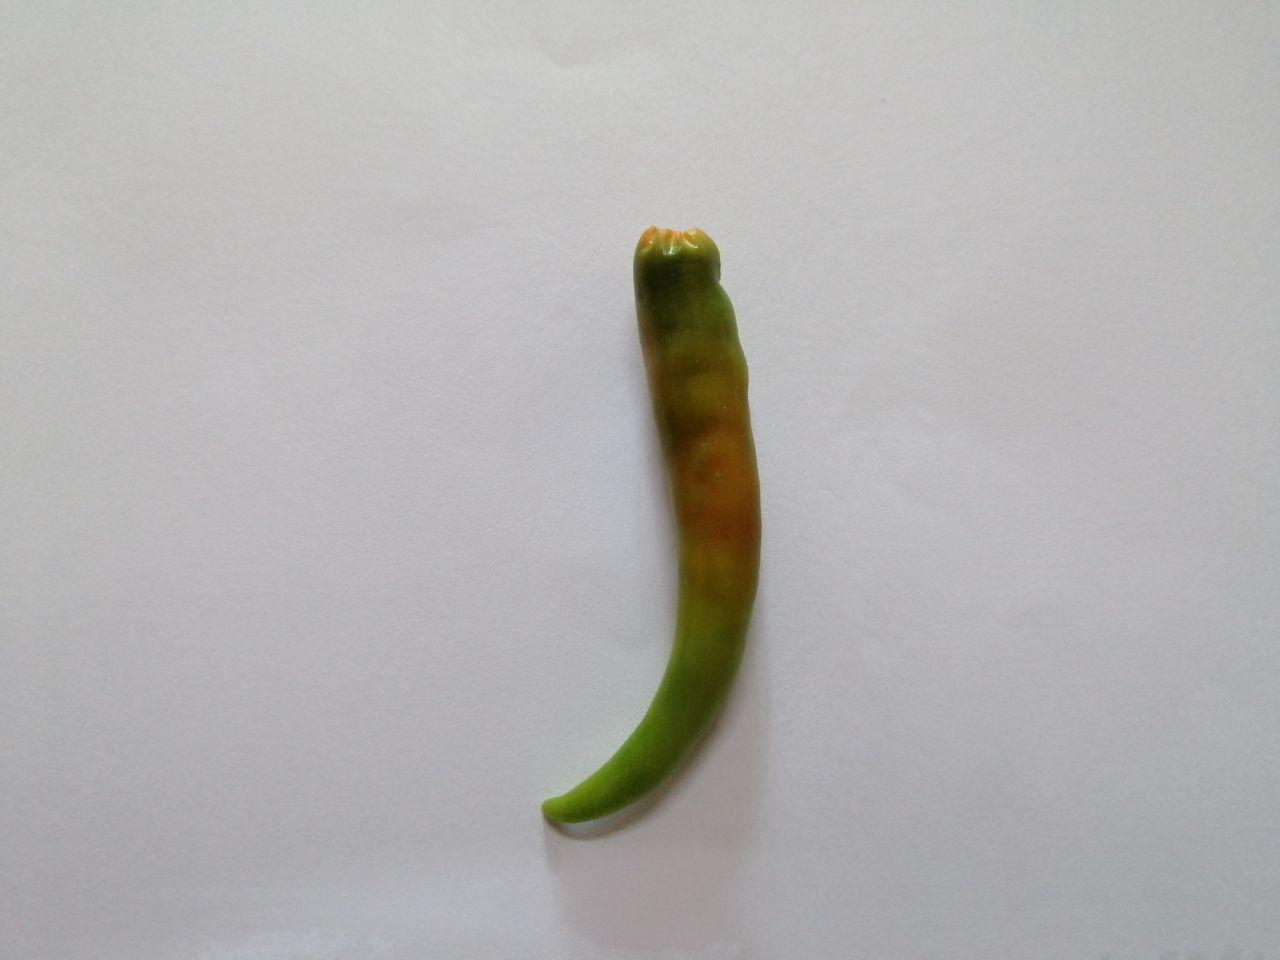lada hijau: (535, 203, 784, 861)
